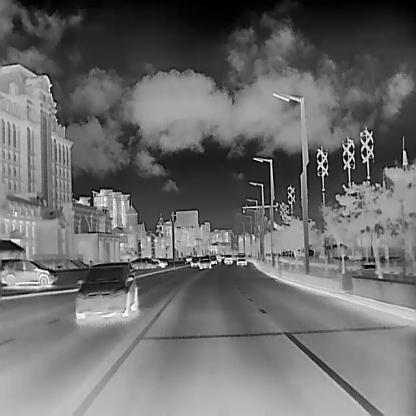car: (74, 260, 137, 318), (0, 257, 57, 285), (130, 256, 156, 269), (150, 255, 168, 267), (198, 254, 210, 268), (236, 251, 247, 265), (208, 253, 218, 265), (190, 255, 199, 267), (223, 253, 233, 263), (215, 252, 221, 262), (185, 253, 191, 261)
